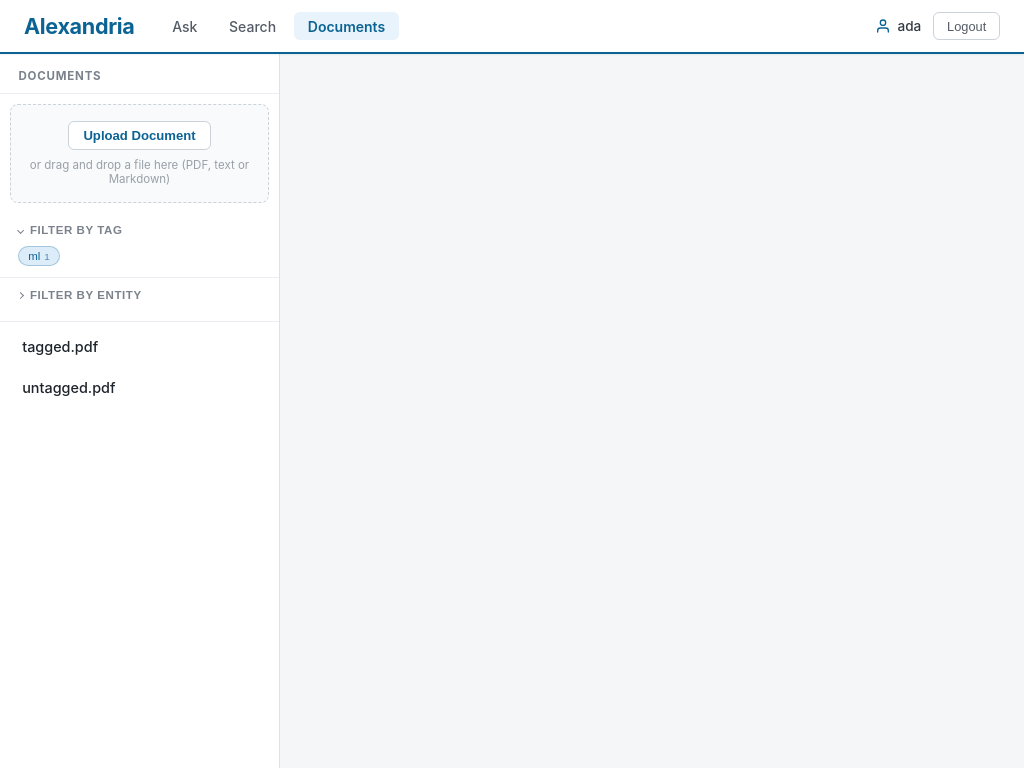
MainView › filters the document list when a tag is selected
Expected: the text "untagged.pdf" is shown, [22,379,116,396]
Step 1. Click the button "ml 1" → (39, 256), box [18,246,60,266]
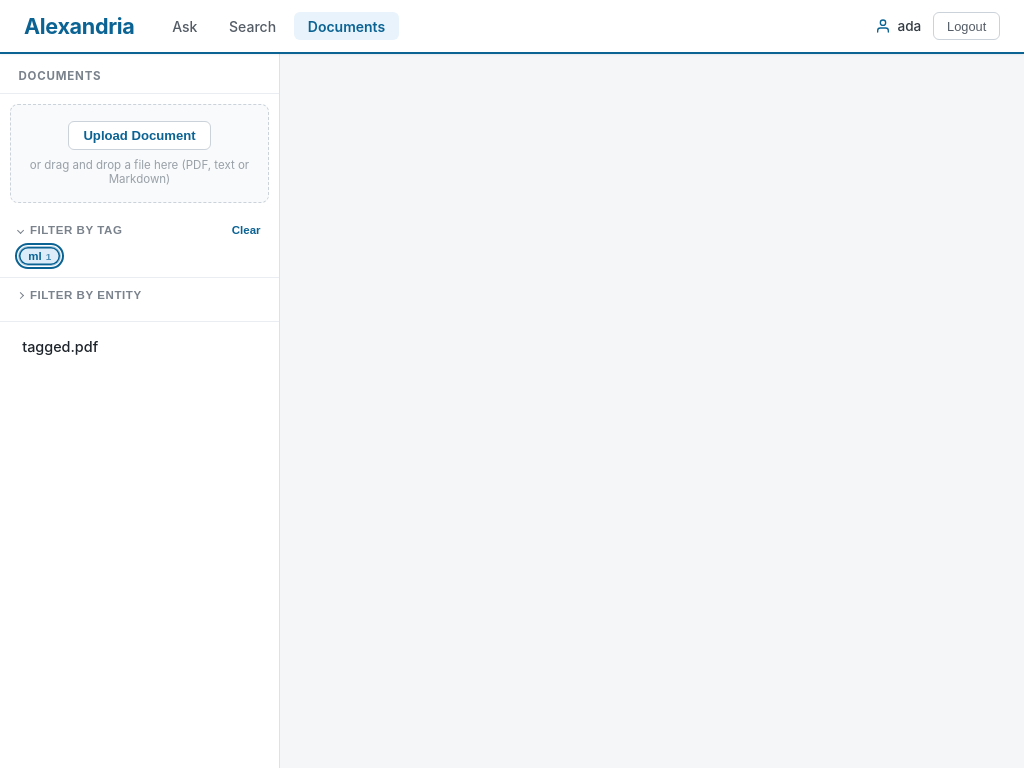
Expected: the text "tagged.pdf" is shown, [22,338,98,355]
Expected: the link "untagged.pdf" is gone
